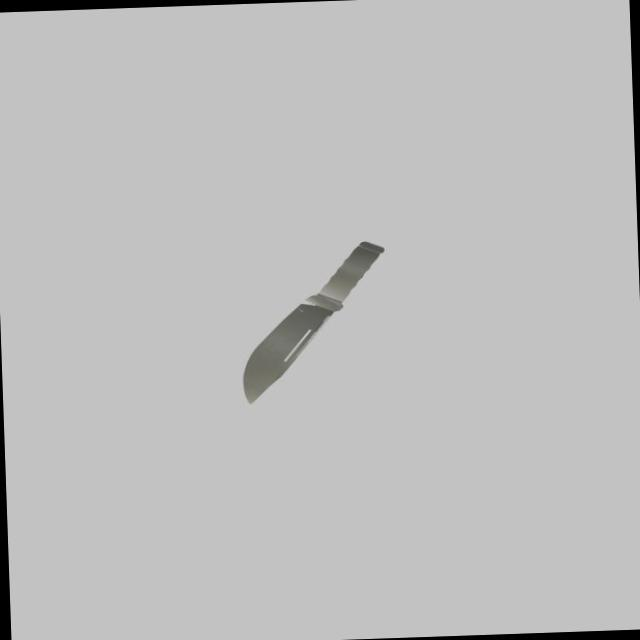knife: (310, 239, 386, 306)
